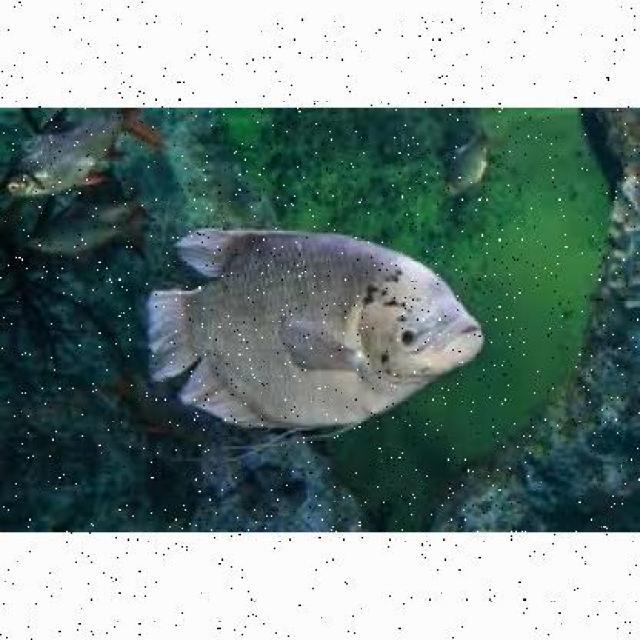gurame: (156, 230, 484, 438)
